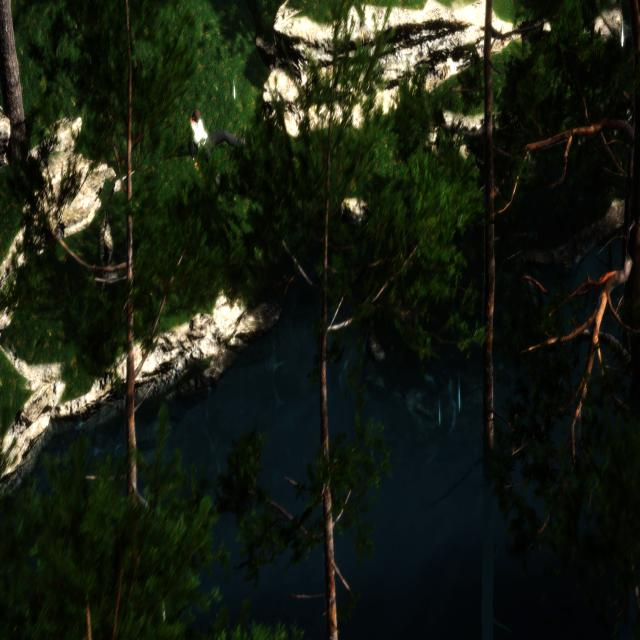Human: (185, 109, 249, 190)
